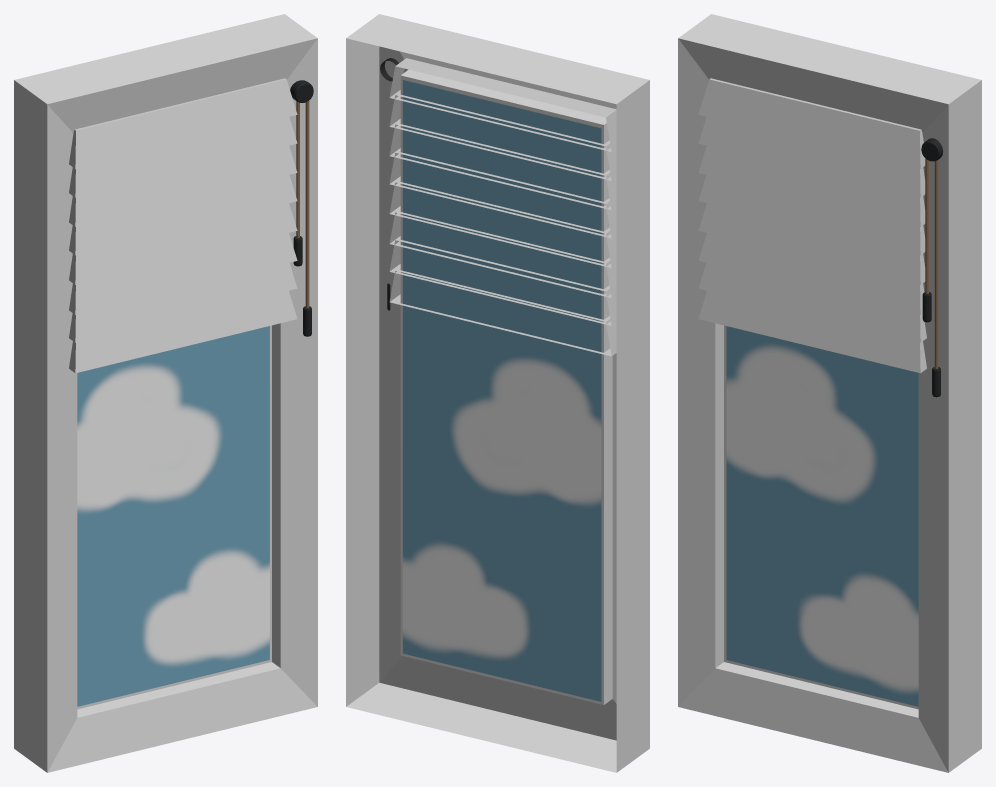
File: window.FBX
The picture shows the model from 3 angles, left to right: view 1: azimuth 30°, elevation 25°; view 2: azimuth 150°, elevation 25°; view 3: azimuth 330°, elevation 25°; orthographic projection.
Visible parts, largest first — view 1: Box009; view 2: Box009; view 3: Box009.
Part boxes in pixels (left/top/right/bottom): Box009: left=14, top=14, right=317, bottom=772; Box009: left=346, top=14, right=649, bottom=772; Box009: left=678, top=14, right=981, bottom=772.
Bounding box in the file's own units: 209 × 493 × 49.61.
